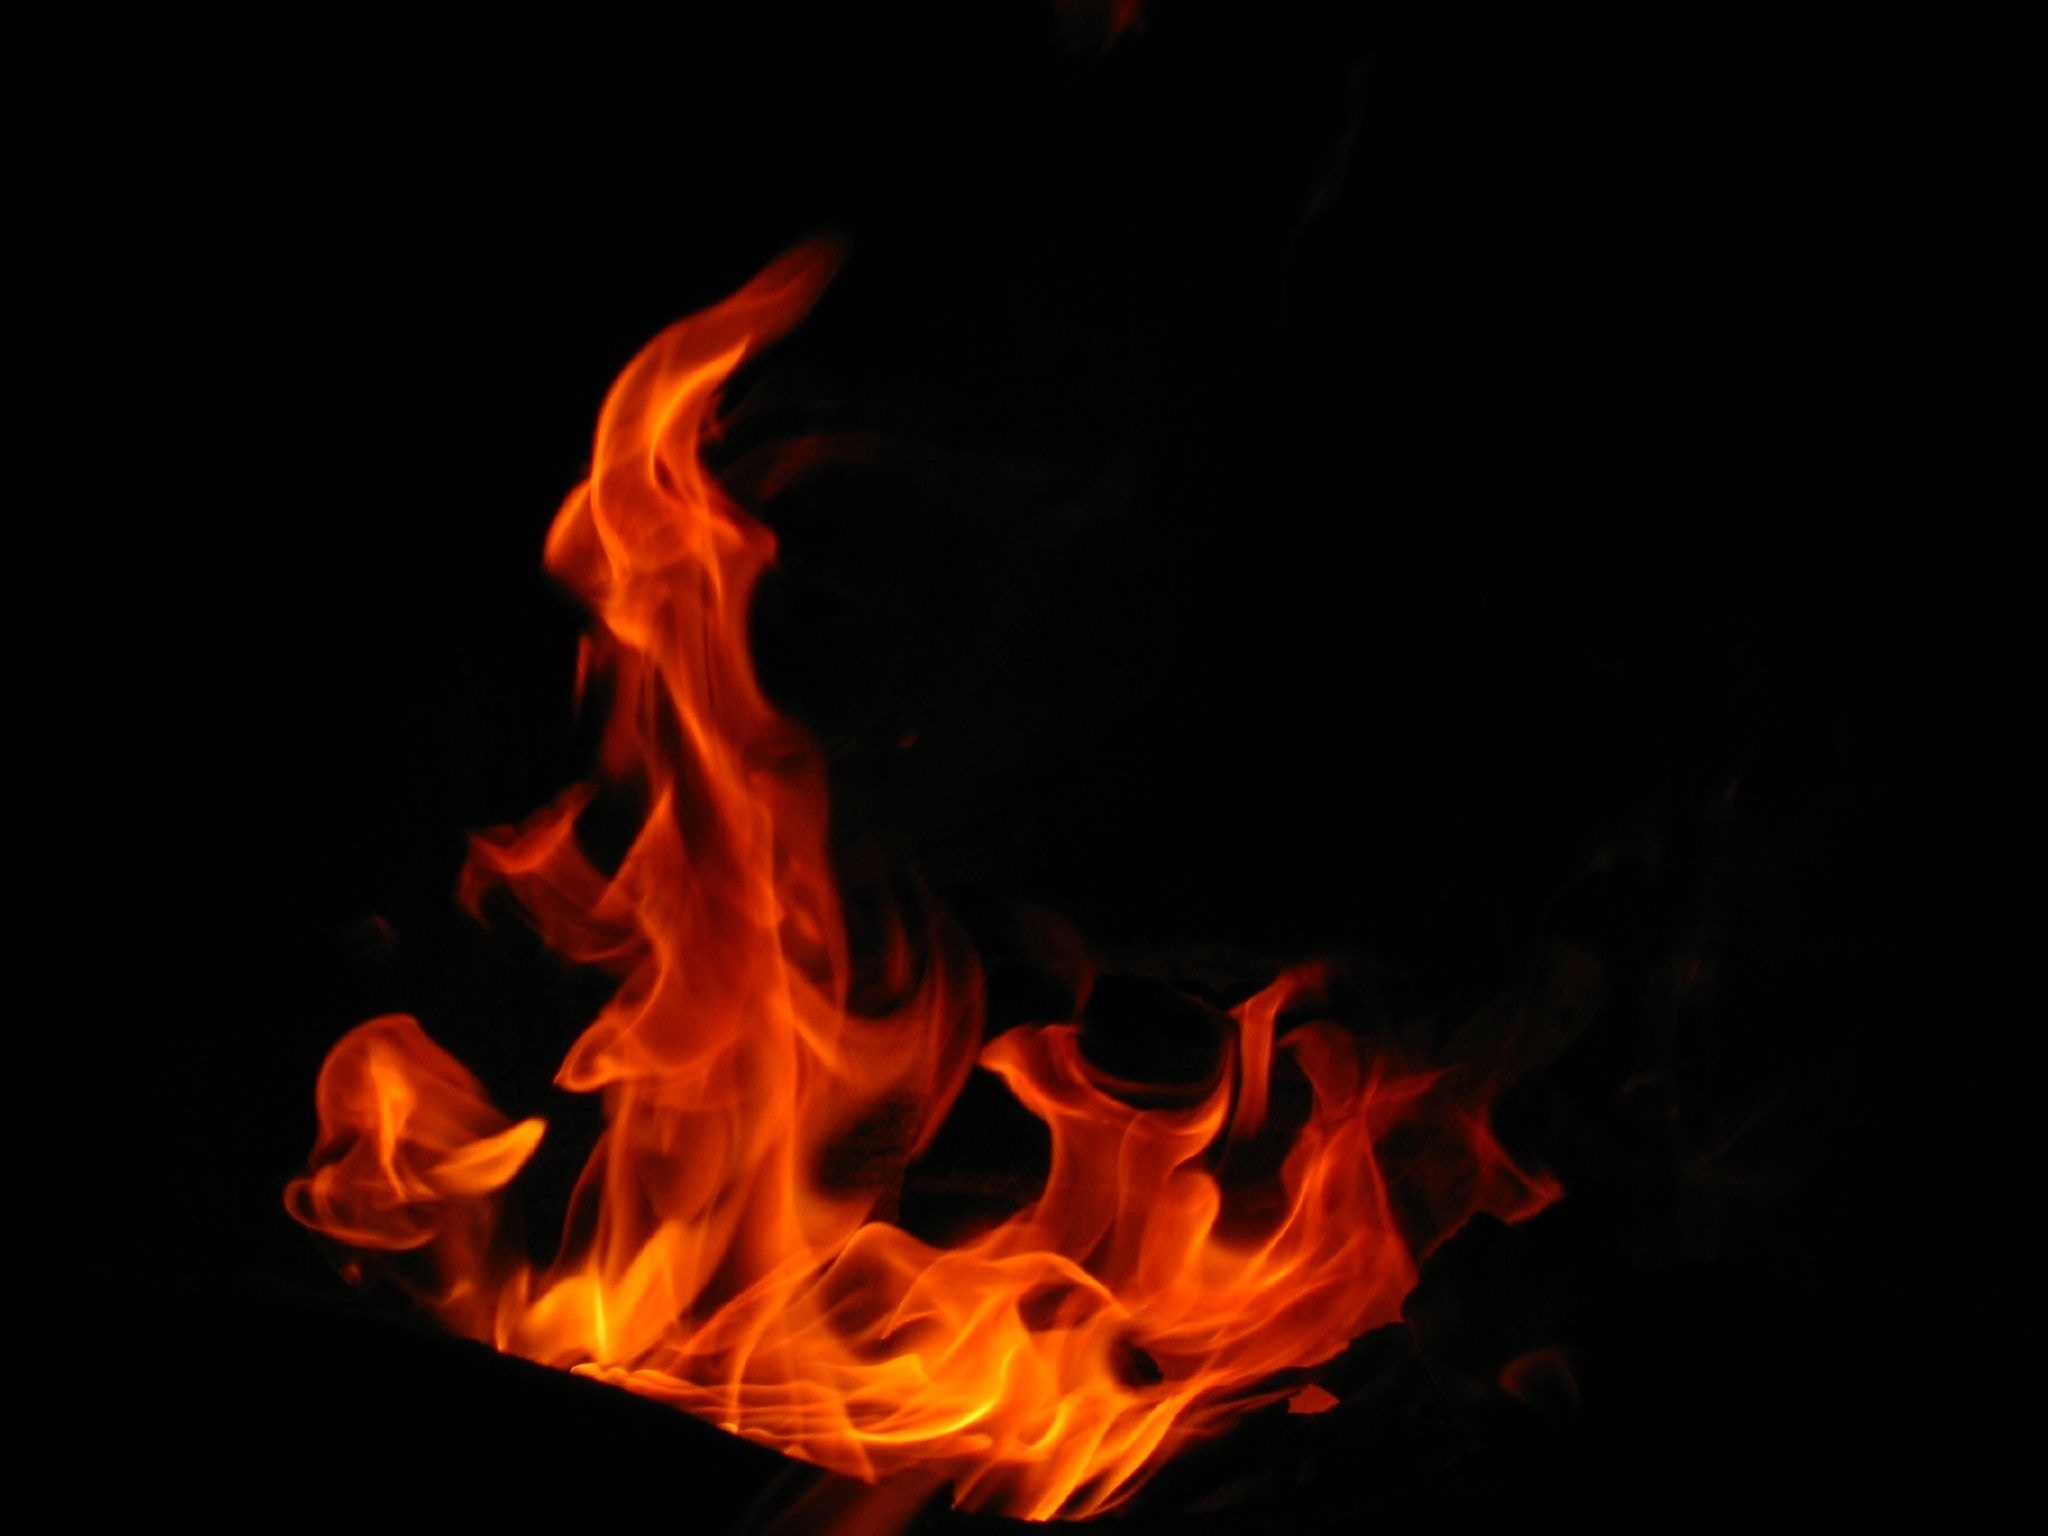fire: (224, 211, 1369, 1455)
